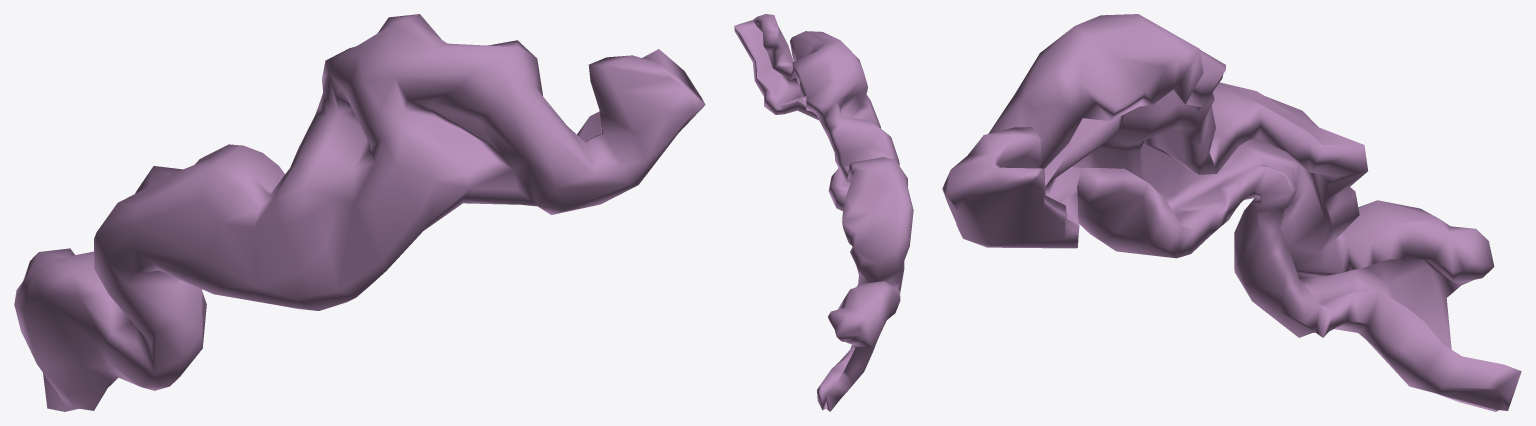
The picture shows the model from 3 angles, left to right: view 1: azimuth 30°, elevation 25°; view 2: azimuth 150°, elevation 25°; view 3: azimuth 270°, elevation 25°; orthographic projection. The views are drawn at different scales.
Visible parts, largest first — view 1: 右侧中央后回; view 2: 右侧中央后回; view 3: 右侧中央后回.
Boxes of the visible parts, left/top/right/bottom form: 右侧中央后回: left=14, top=14, right=705, bottom=411; 右侧中央后回: left=734, top=14, right=913, bottom=411; 右侧中央后回: left=942, top=14, right=1521, bottom=411.
Size of the model in its own units: 0.0777 by 0.0759 by 0.0822.
